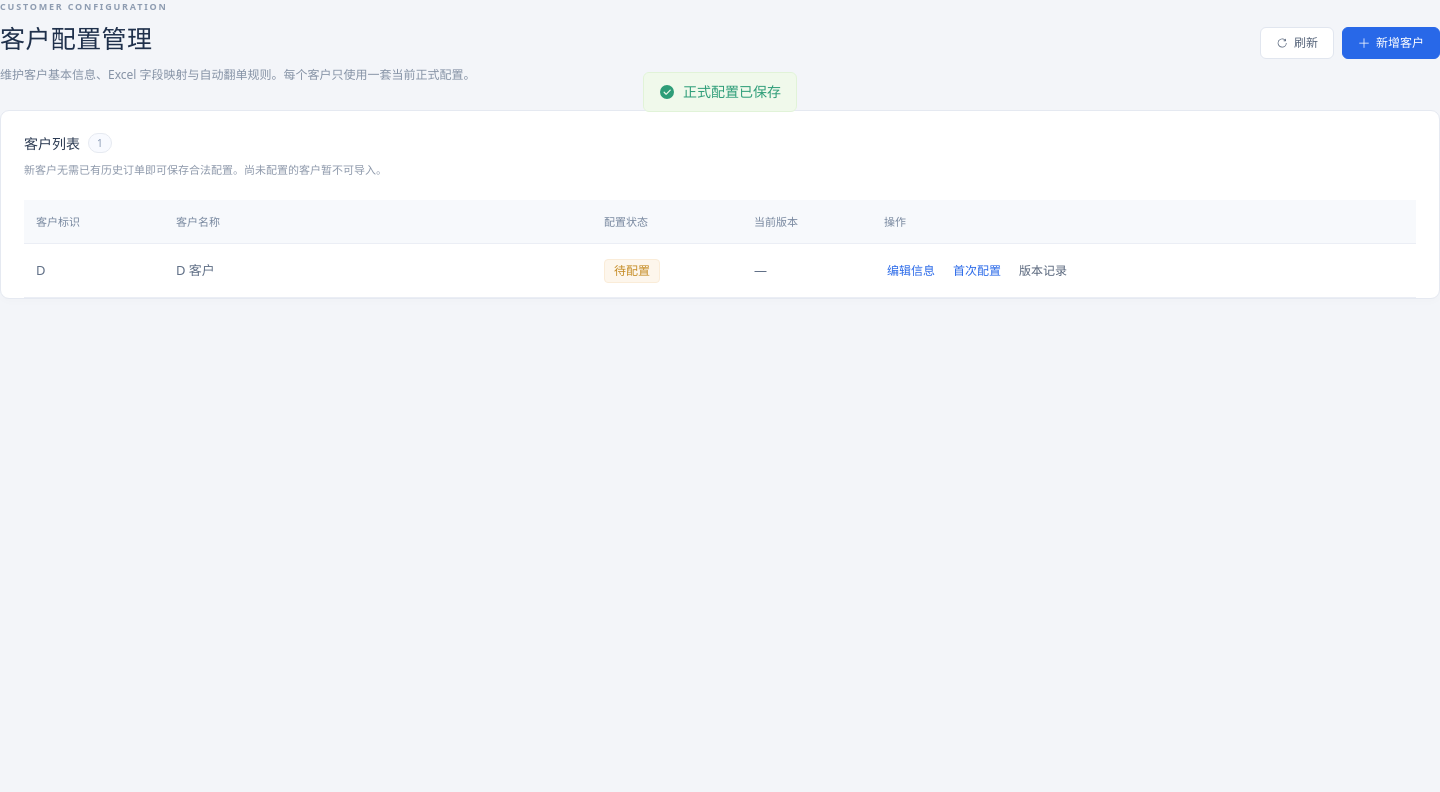
新增 E 客户后进入首次配置
This screenshot has width=1440, height=792.
Click the button "新增客户".
click(1391, 42)  # box top-left (1342, 26), bottom-right (1439, 58)
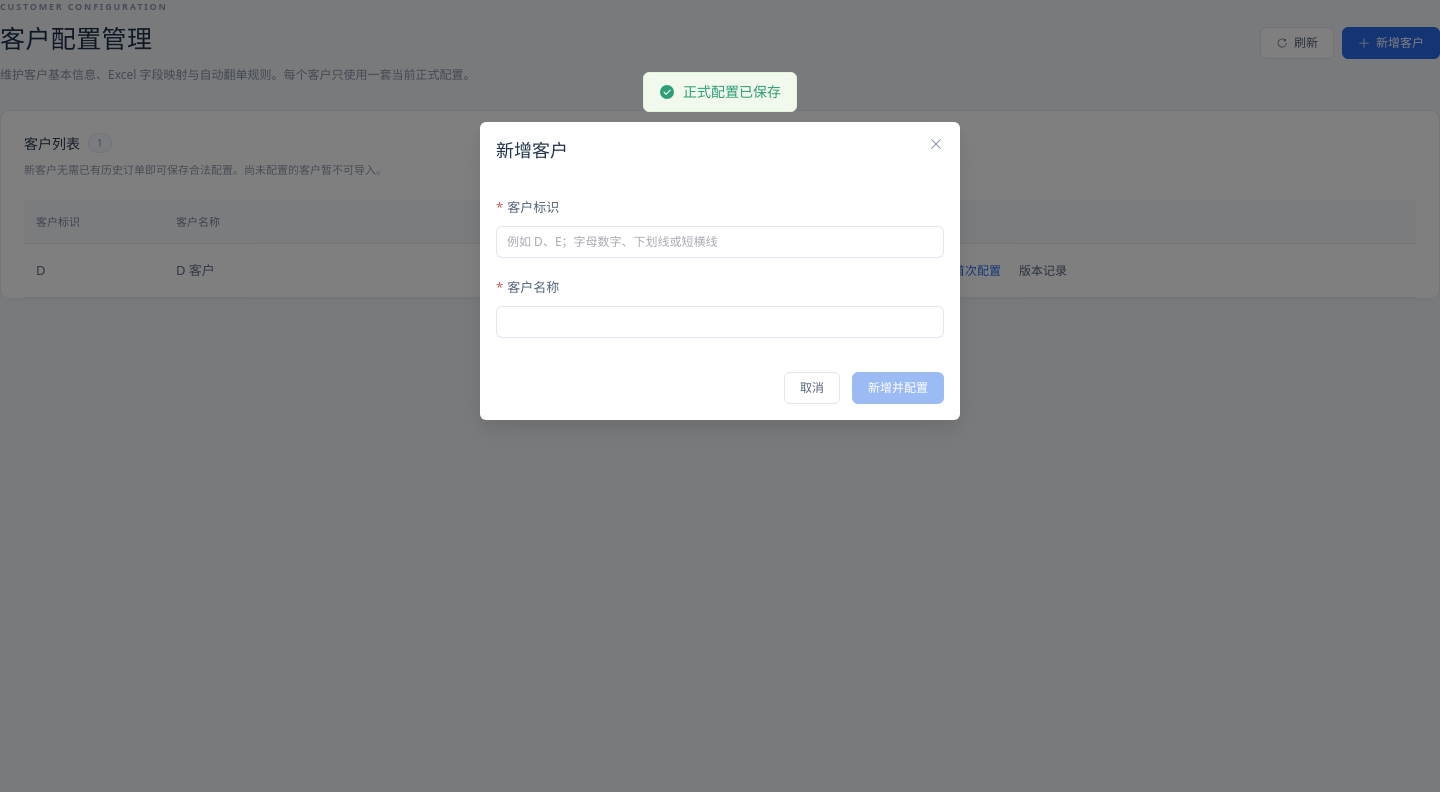
Type "E" into the field labelled "客户标识".
click(720, 242); type("E")  # box top-left (507, 226), bottom-right (933, 256)
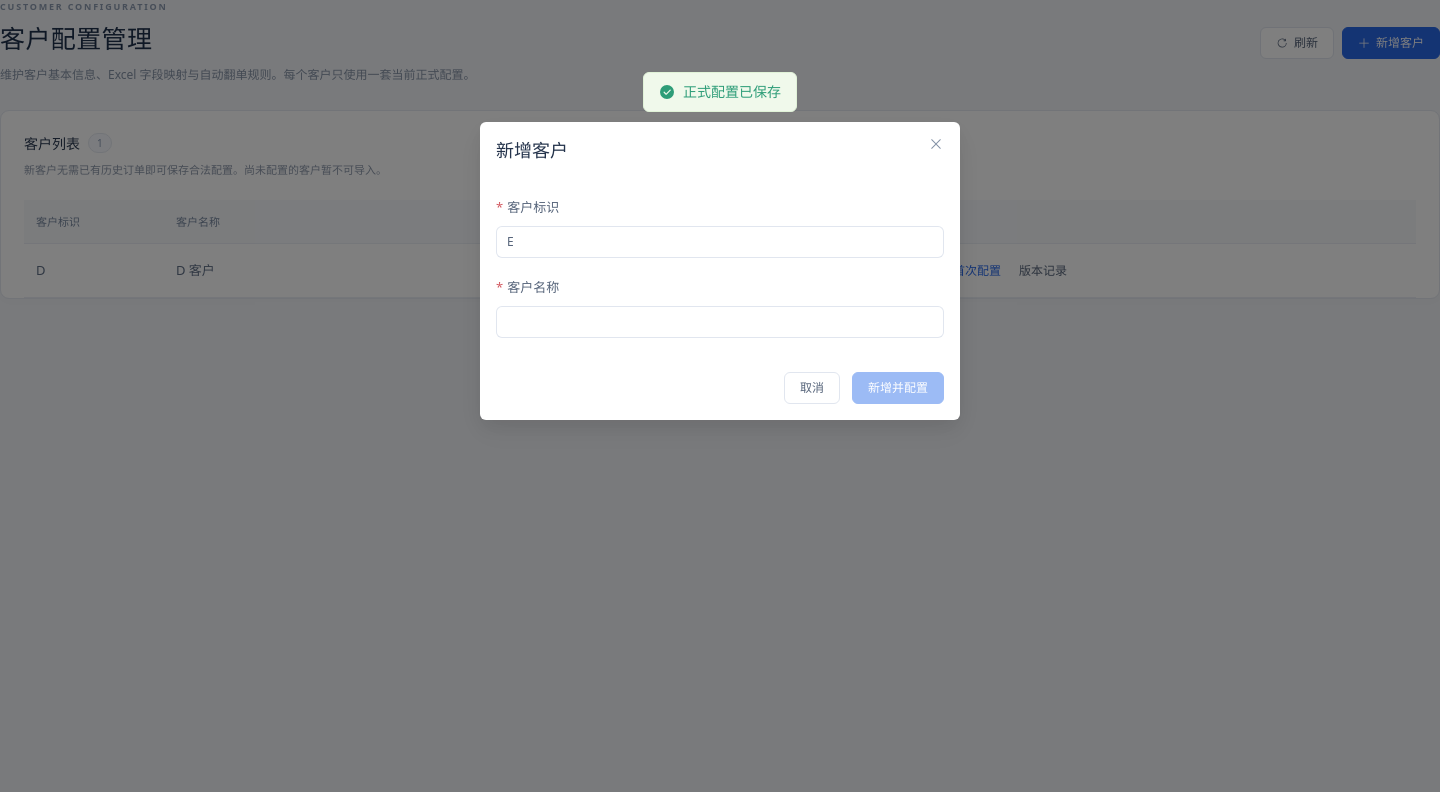
Type "E 客户" into the field labelled "客户名称".
click(720, 322); type("E 客户")  # box top-left (507, 306), bottom-right (933, 336)
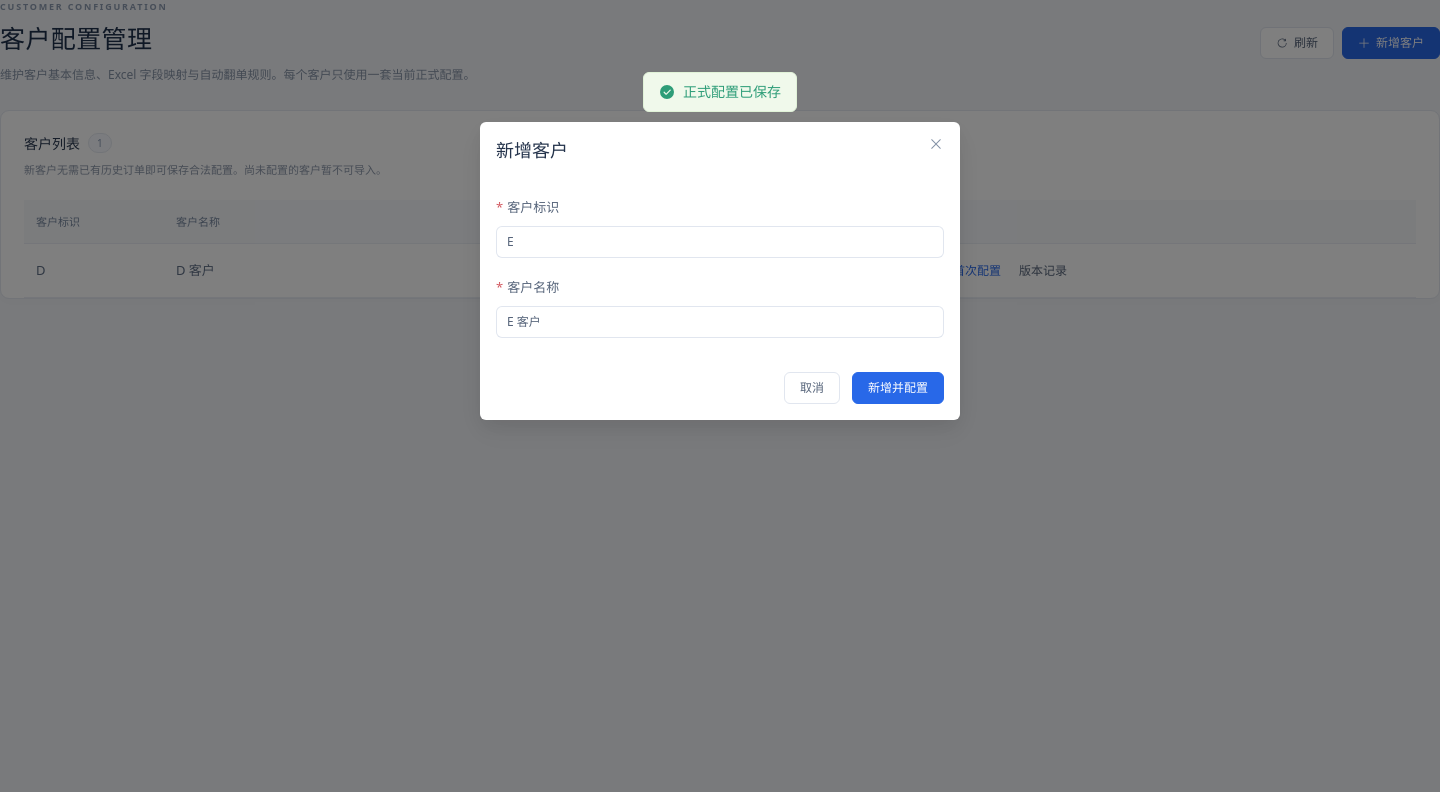
Click the button "新增并配置".
click(898, 388)  # box top-left (852, 372), bottom-right (944, 404)
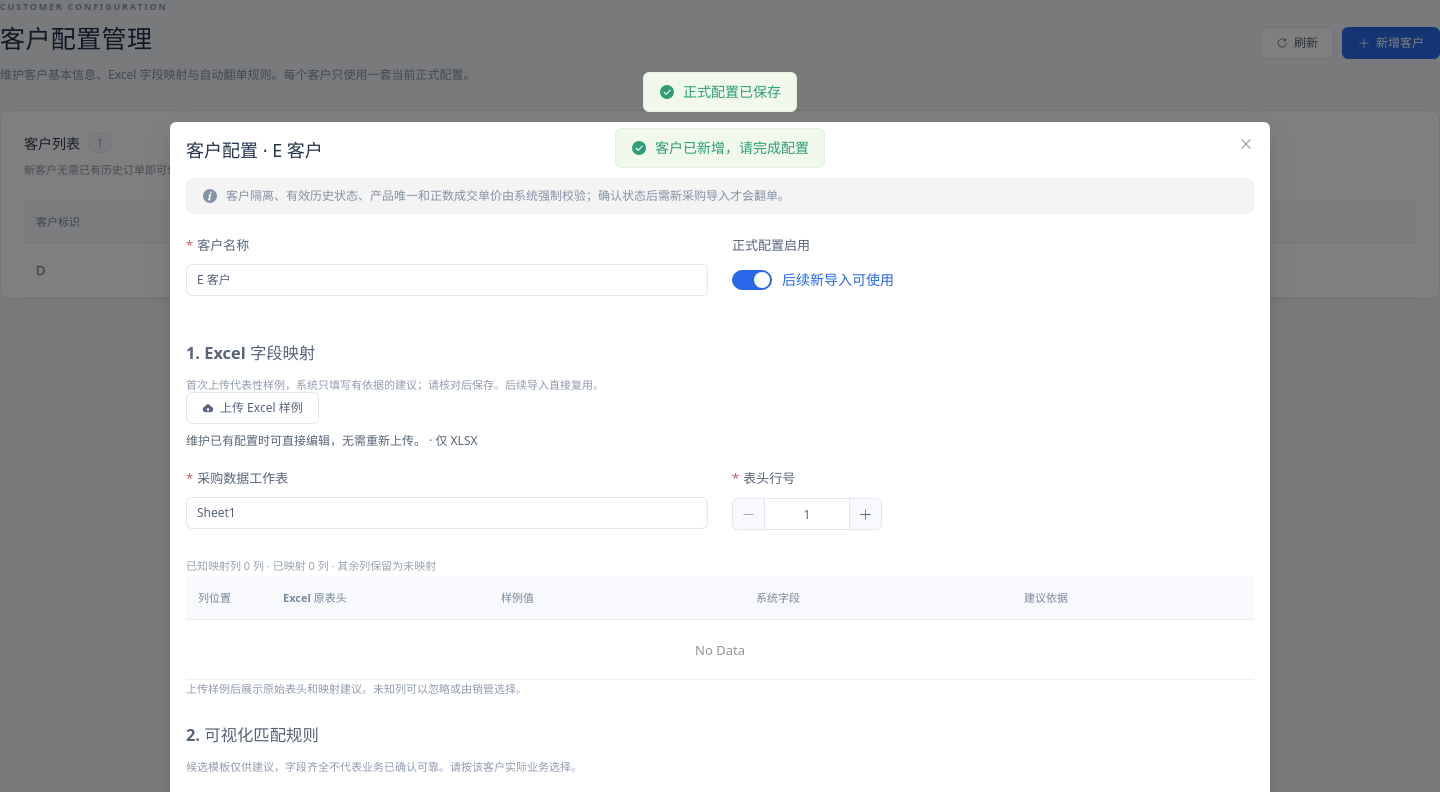
Check: the text "客户配置 · E 客户" is shown, box top-left (186, 138), bottom-right (323, 162)
